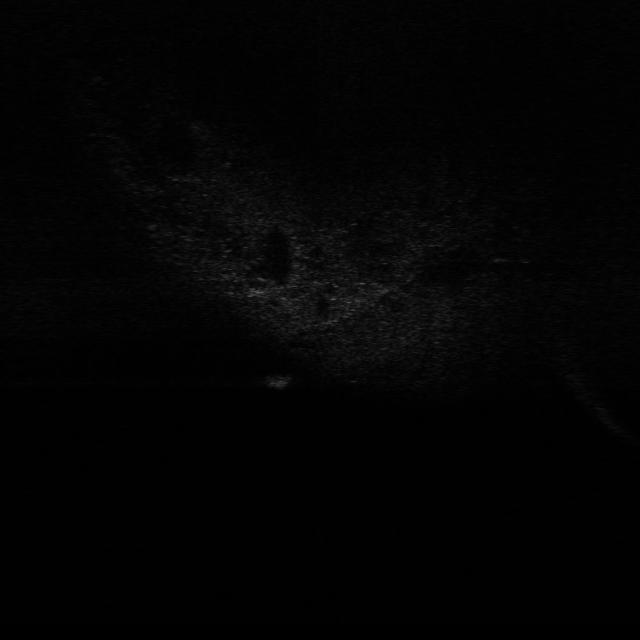cube: (264, 368, 296, 392)
